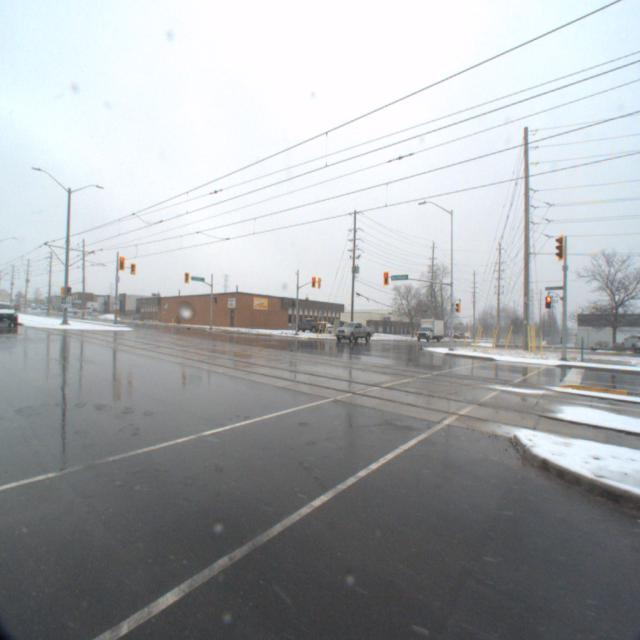Car: (291, 320, 327, 336)
Truck: (332, 324, 372, 344), (411, 320, 443, 344)
